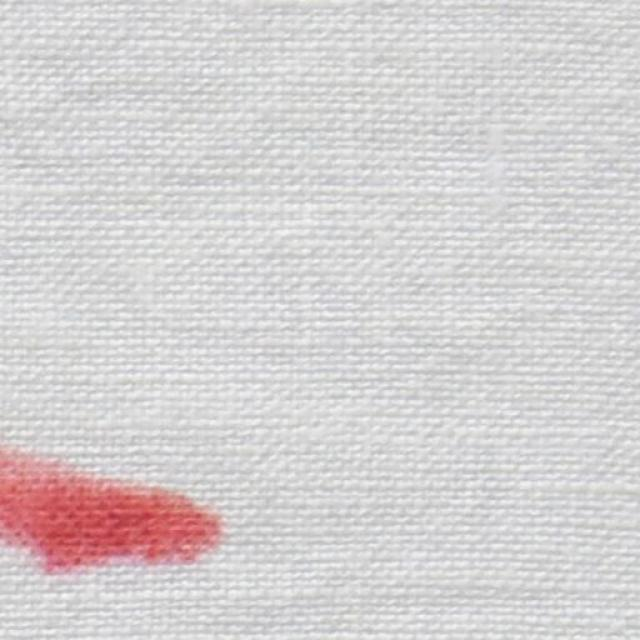Stain: (0, 455, 210, 568)
